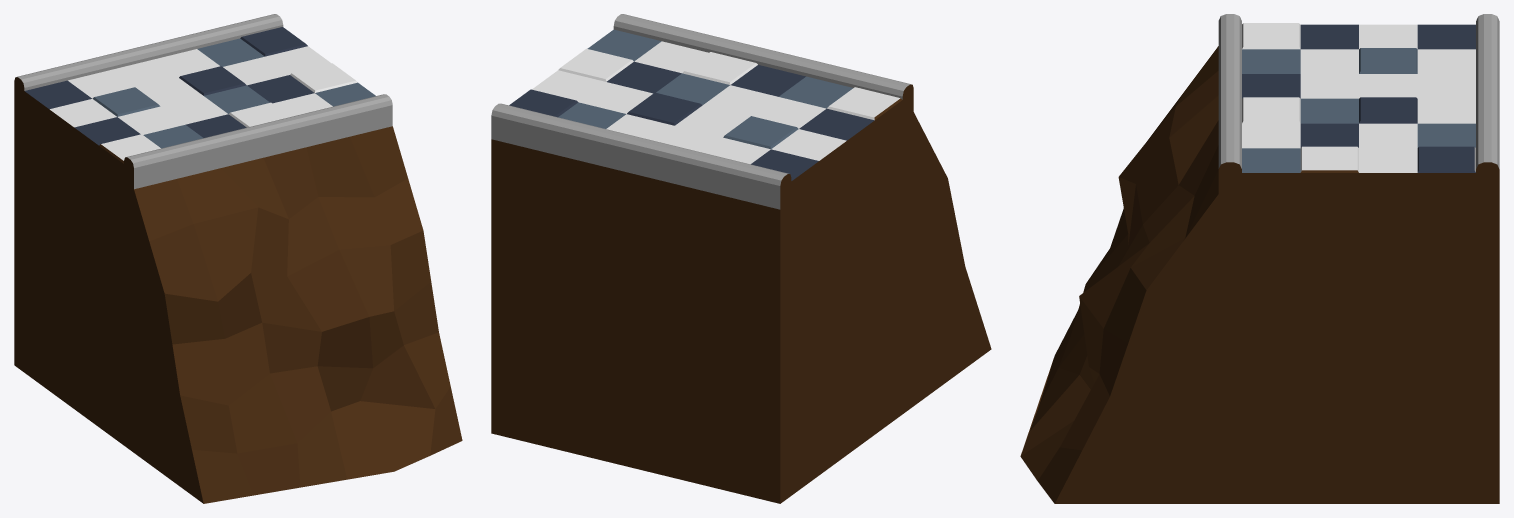
Rendered from road_line.fbx.
3 views of the same model, side by side, from view 1: azimuth 30°, elevation 25°; view 2: azimuth 150°, elevation 25°; view 3: azimuth 270°, elevation 25° (orthographic). The views are drawn at different scales.
Parts seen in each view (by area): view 1: road_line; view 2: road_line; view 3: road_line.
Part boxes in pixels (x1,y1,x2,y2): road_line: (14, 14, 462, 503); road_line: (491, 14, 991, 503); road_line: (1020, 14, 1499, 503).
Bounding box in the file's own units: 300 × 322 × 409.
